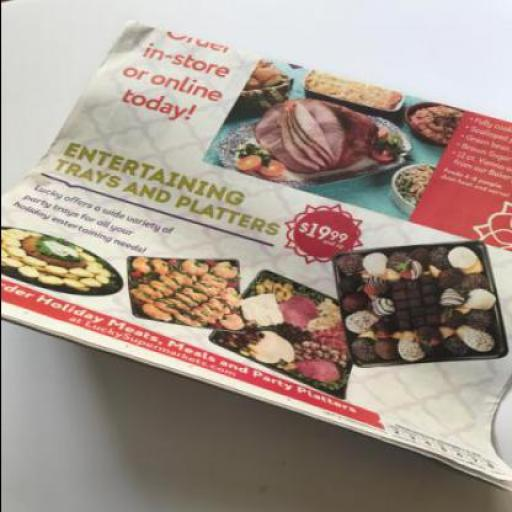paper: (1, 20, 511, 490)
